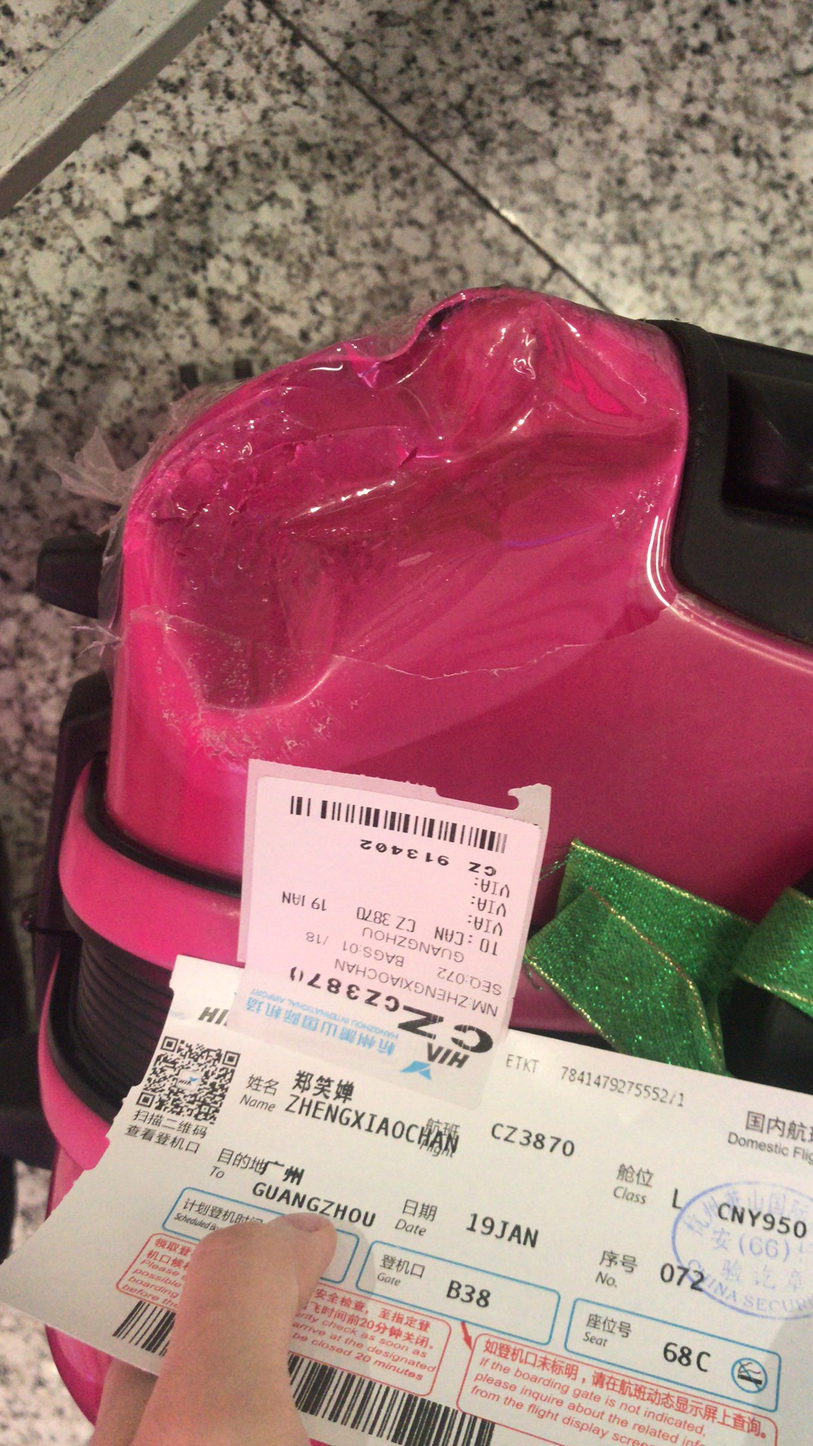rupture: (126, 288, 684, 765)
